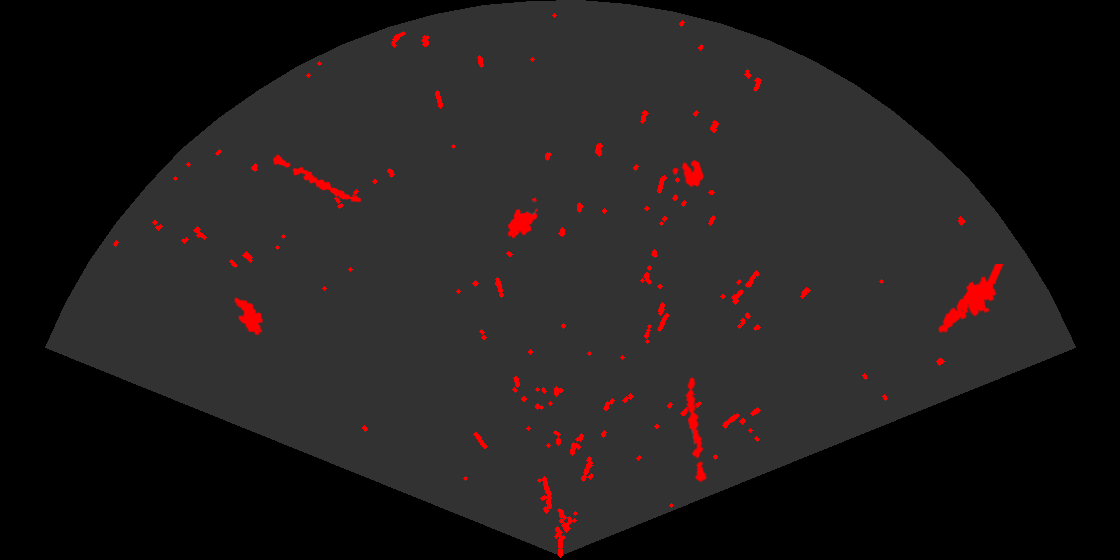AUV: (506, 196, 540, 240), (233, 296, 265, 337)
ball: (671, 158, 706, 189)
chain: (271, 153, 363, 204), (684, 376, 708, 485)
frogman: (937, 264, 1006, 334)
